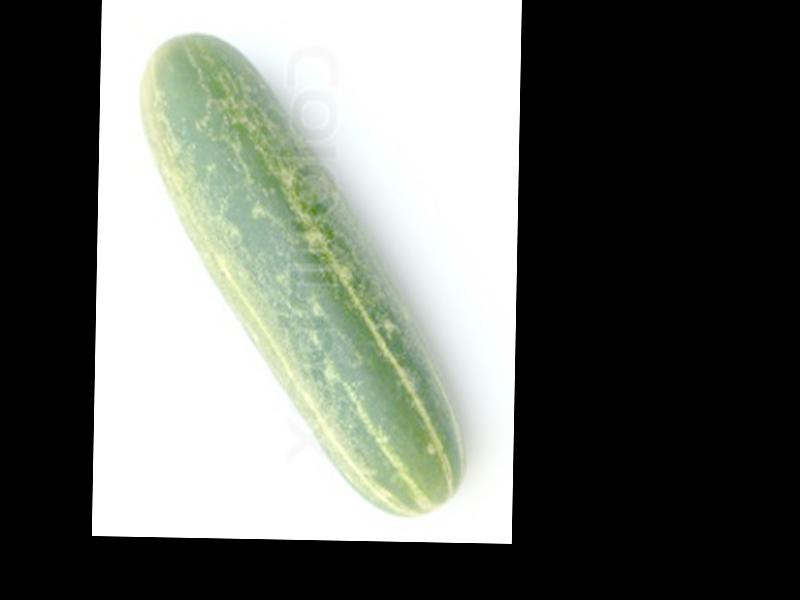Cucumber: (129, 33, 471, 521)
